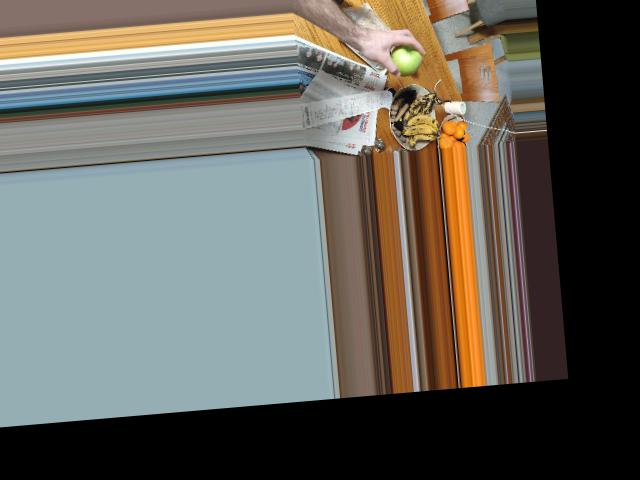apple: (387, 43, 425, 74)
